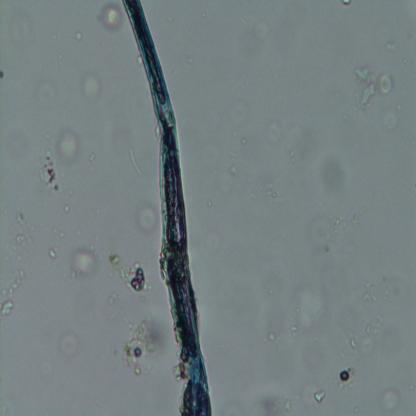Background material: (6, 211, 34, 304), (286, 283, 334, 335), (120, 316, 156, 378), (109, 257, 151, 297), (250, 383, 294, 416), (346, 316, 381, 354), (36, 149, 62, 193), (320, 214, 361, 240), (8, 9, 36, 46), (71, 244, 99, 280), (31, 76, 61, 108), (97, 1, 125, 34), (258, 185, 292, 209), (58, 132, 82, 164), (80, 72, 103, 104), (59, 334, 82, 365), (135, 202, 159, 231), (250, 18, 271, 48), (336, 364, 358, 389), (359, 280, 380, 305), (233, 98, 251, 126), (381, 109, 401, 133), (376, 71, 394, 97), (267, 118, 285, 143), (360, 86, 376, 108), (381, 395, 400, 413), (354, 66, 371, 84), (0, 298, 15, 317), (313, 390, 327, 404), (184, 54, 196, 66), (230, 163, 238, 178), (60, 204, 72, 214), (266, 332, 276, 343), (75, 31, 82, 44), (48, 249, 58, 258), (87, 152, 96, 161), (60, 230, 66, 238)
Cotton: (122, 0, 216, 414)
Glass filter fibre: (125, 144, 142, 178)
